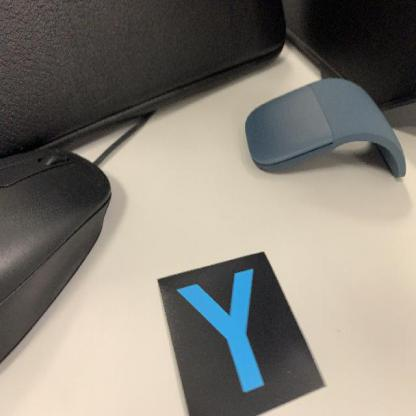y: (156, 247, 329, 416)
